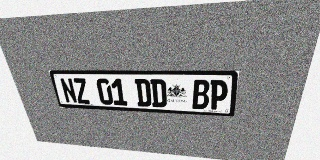0: (96, 78, 114, 105)
1: (110, 78, 128, 106)
B: (192, 80, 210, 109)
D: (135, 79, 152, 107), (150, 79, 167, 107)
N: (59, 78, 78, 103)
P: (209, 80, 229, 110)
Z: (72, 78, 91, 104)
